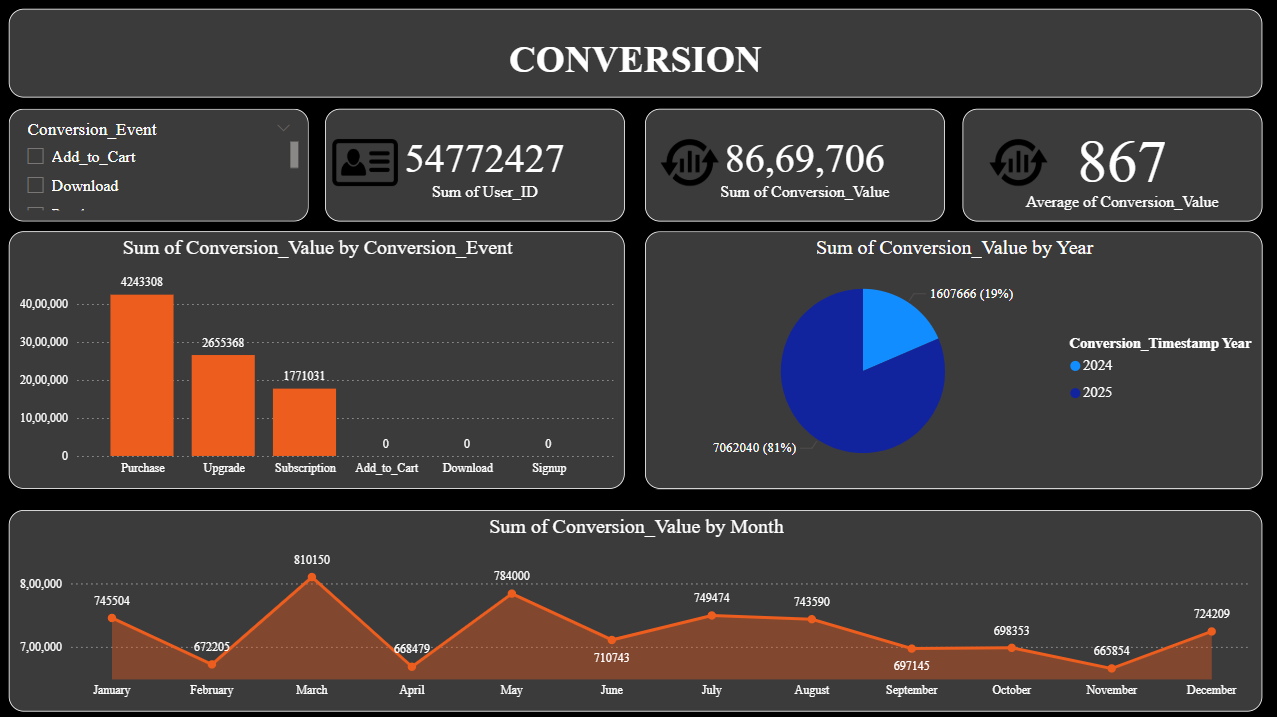

What the dashboard file says about the page in this screenshot:
{"tool":"powerbi","page":{"name":"Conversion","canvas":[1280,720],"ordinal":1},"visuals":[{"type":"textbox","box":[8.8,8.8,1253.8,88.8],"z":0},{"type":"slicer","fields":{"Values":["conversion.Conversion_Event"]},"box":[8.8,108.8,300,112.5],"z":1000},{"type":"card","fields":{"Values":["Sum(conversion.User_ID)"]},"box":[325,108.8,300,112.5],"z":2000},{"type":"card","fields":{"Values":["Avg(conversion.Conversion_Value)"]},"box":[962.5,108.8,300,112.5],"z":3000},{"type":"card","fields":{"Values":["Sum(conversion.Conversion_Value)"]},"box":[645,108.8,300,112.5],"z":4000},{"type":"columnChart","fields":{"Category":["conversion.Conversion_Event"],"Y":["Sum(conversion.Conversion_Value)"]},"box":[8.8,231.2,616.2,257.5],"z":5000},{"type":"areaChart","fields":{"Category":["conversion.Conversion_Timestamp.Variation.Date Hierarchy.Month"],"Y":["Sum(conversion.Conversion_Value)"]},"box":[8.8,510,1253.8,201.2],"z":6000},{"type":"pieChart","fields":{"Category":["conversion.Conversion_Timestamp.Variation.Date Hierarchy.Year"],"Y":["Sum(conversion.Conversion_Value)"]},"box":[645,231.2,617.5,257.5],"z":7000},{"type":"image","box":[327.9,124.4,75.6,75.6],"z":7001},{"type":"image","box":[653.5,130.2,72.1,65.1],"z":7002},{"type":"image","box":[982.6,130.2,72.1,65.1],"z":7003}]}

Visuals, with their boxes in screenshot pixels (x1, y1, x2, y2), scaled from the page's 1280x720 canvas onto the 1277x717 screenshot:
textbox: <region>9, 9, 1260, 97</region>
slicer - conversion.Conversion_Event: <region>9, 108, 308, 220</region>
card - Sum(conversion.User_ID): <region>324, 108, 624, 220</region>
card - Avg(conversion.Conversion_Value): <region>960, 108, 1260, 220</region>
card - Sum(conversion.Conversion_Value): <region>643, 108, 943, 220</region>
columnChart - conversion.Conversion_Event x Sum(conversion.Conversion_Value): <region>9, 230, 624, 487</region>
areaChart - conversion.Conversion_Timestamp.Variation.Date Hierarchy.Month x Sum(conversion.Conversion_Value): <region>9, 508, 1260, 708</region>
pieChart - conversion.Conversion_Timestamp.Variation.Date Hierarchy.Year x Sum(conversion.Conversion_Value): <region>643, 230, 1260, 487</region>
image: <region>327, 124, 403, 199</region>
image: <region>652, 130, 724, 194</region>
image: <region>980, 130, 1052, 194</region>
